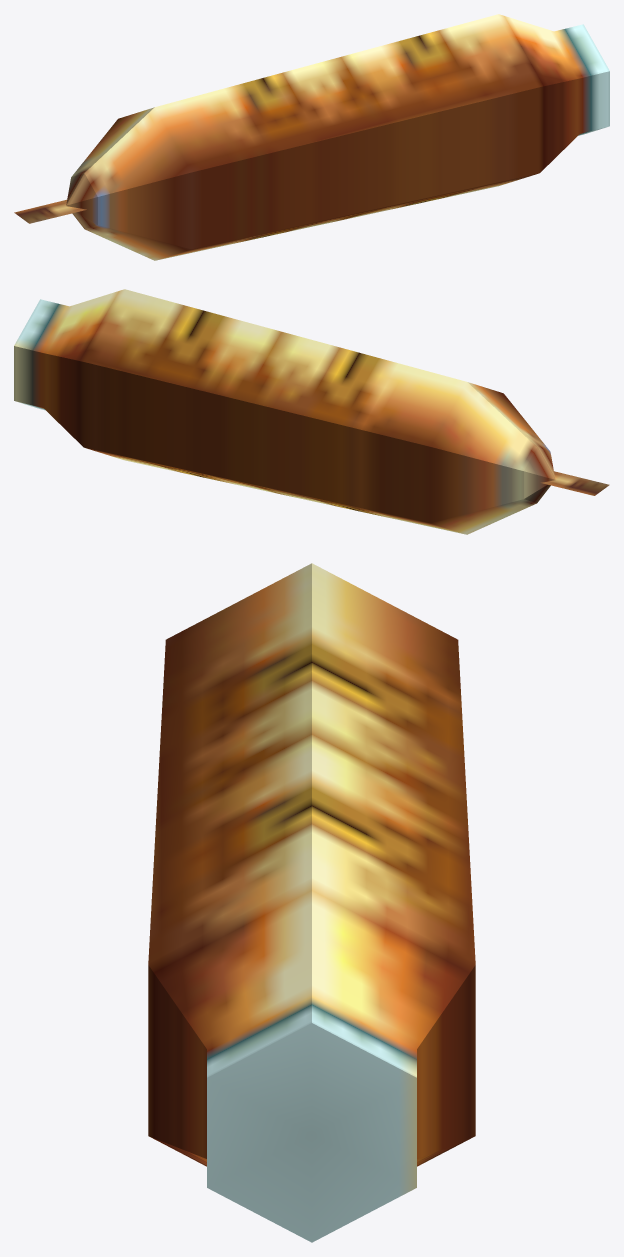
3 renders of one model, top to bottom at view 1: azimuth 30°, elevation 25°; view 2: azimuth 150°, elevation 25°; view 3: azimuth 270°, elevation 25°, orthographic. The views are drawn at different scales.
Visible parts, largest first — view 1: aw209; view 2: aw209; view 3: aw209.
Part boxes in pixels (x1,y1,x2,y2): aw209: (14,14,609,260); aw209: (14,289,609,534); aw209: (148,563,475,1242).
Bounding box in the file's own units: 18.4 × 5.35 × 4.64.
Materials: 1 (1 with a texture image).
